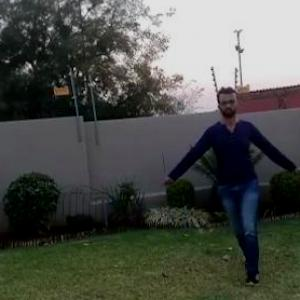land: (174, 94, 294, 260)
